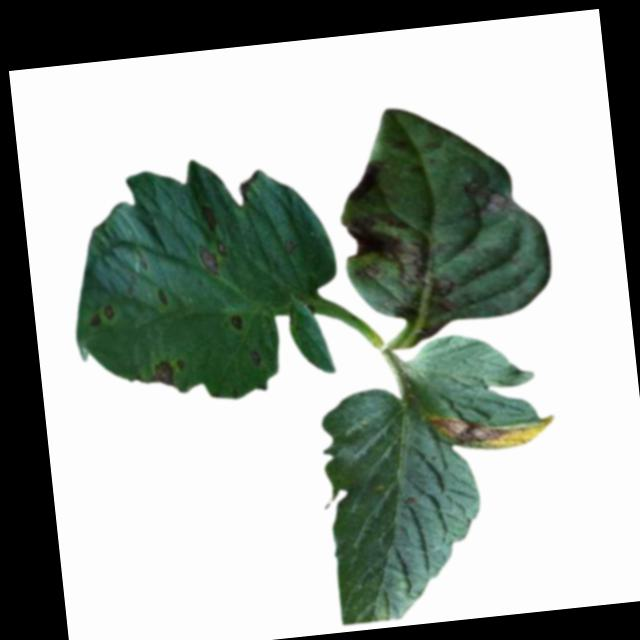Early_blight: (344, 206, 463, 325), (425, 402, 560, 458), (457, 172, 524, 222), (346, 160, 390, 202), (197, 238, 231, 278), (149, 358, 178, 393), (89, 303, 118, 330), (199, 201, 221, 236), (229, 312, 245, 336), (246, 347, 262, 367)
